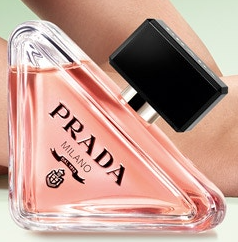prada_paradoxe: (5, 12, 227, 237)
